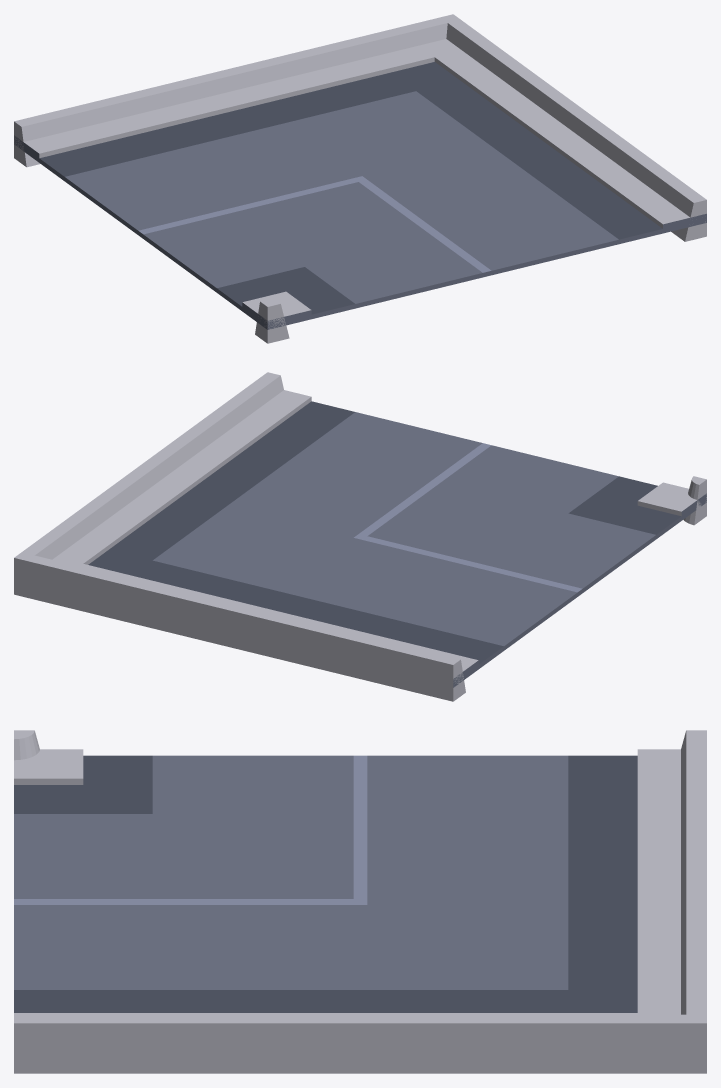
The model's file is road_bendSquare.glb.
The picture shows the model from 3 angles, top to bottom: view 1: azimuth 30°, elevation 25°; view 2: azimuth 150°, elevation 25°; view 3: azimuth 270°, elevation 25°; orthographic projection. The views are drawn at different scales.
Parts seen in each view (by area): view 1: road_bendSquare_4a96df, road_bendSquare_08fa59, road_bendSquare_8e9f1e, road_bendSquare_37cf5a, road_bendSquare_1883d4; view 2: road_bendSquare_4a96df, road_bendSquare_8e9f1e, road_bendSquare_08fa59, road_bendSquare_37cf5a, road_bendSquare_1883d4; view 3: road_bendSquare_4a96df, road_bendSquare_8e9f1e, road_bendSquare_08fa59, road_bendSquare_37cf5a, road_bendSquare_1883d4.
Boxes of the visible parts, x1,y1,x2,y2 form: road_bendSquare_4a96df: [14, 91, 706, 329]; road_bendSquare_08fa59: [40, 62, 662, 314]; road_bendSquare_8e9f1e: [14, 14, 706, 343]; road_bendSquare_37cf5a: [24, 39, 689, 316]; road_bendSquare_1883d4: [138, 176, 491, 272]; road_bendSquare_4a96df: [153, 412, 706, 687]; road_bendSquare_8e9f1e: [14, 372, 706, 701]; road_bendSquare_08fa59: [88, 401, 680, 664]; road_bendSquare_37cf5a: [14, 390, 696, 687]; road_bendSquare_1883d4: [354, 443, 582, 592]; road_bendSquare_4a96df: [14, 755, 568, 989]; road_bendSquare_8e9f1e: [14, 730, 706, 1073]; road_bendSquare_08fa59: [14, 755, 637, 1012]; road_bendSquare_37cf5a: [14, 749, 706, 1054]; road_bendSquare_1883d4: [14, 755, 367, 904].
Size of the model in its own units: 1 by 0.08 by 1.
